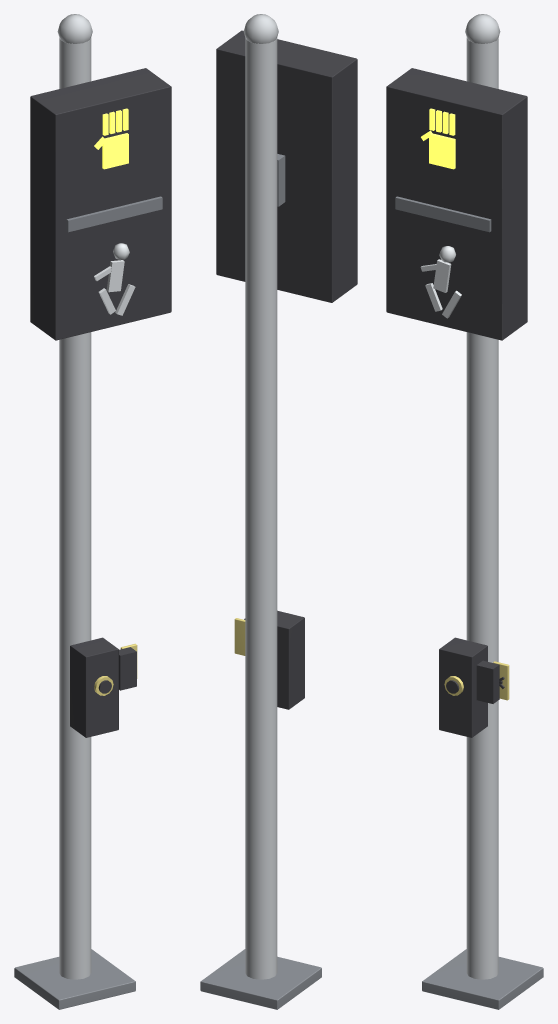
The model's file is PedSignal_Crosswalk.fbx.
The picture shows the model from 3 angles, left to right: view 1: azimuth 30°, elevation 25°; view 2: azimuth 150°, elevation 25°; view 3: azimuth 330°, elevation 25°; orthographic projection.
Parts seen in each view (by area): view 1: LOD0; view 2: LOD0; view 3: LOD0.
Part boxes in pixels (x1=…): LOD0: x1=14, y1=14, x2=171, y2=1009; LOD0: x1=200, y1=14, x2=357, y2=1009; LOD0: x1=386, y1=14, x2=543, y2=1009.
Size of what is drawn, in the model's own units: 42 by 334 by 42.
